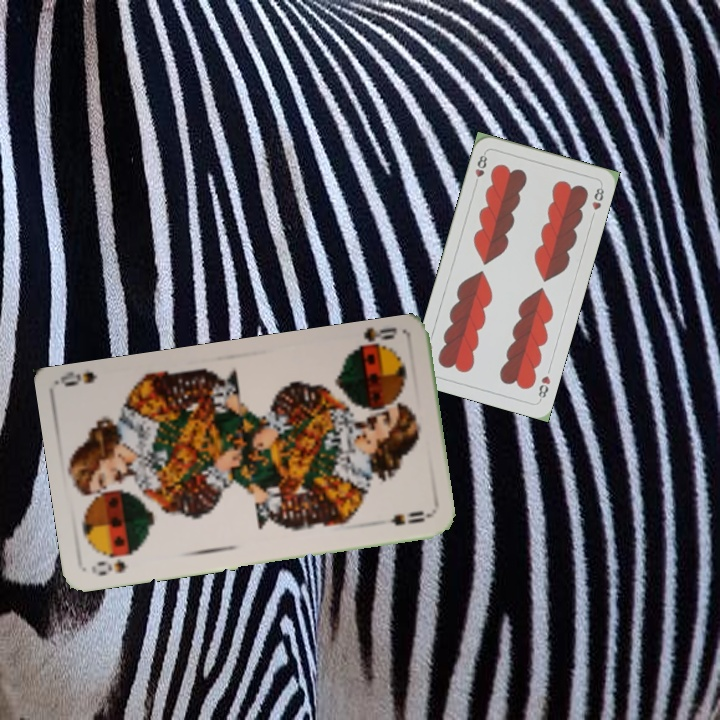H8: (471, 149, 490, 189), (534, 372, 553, 403)
SO: (348, 323, 400, 356), (87, 549, 135, 578)
